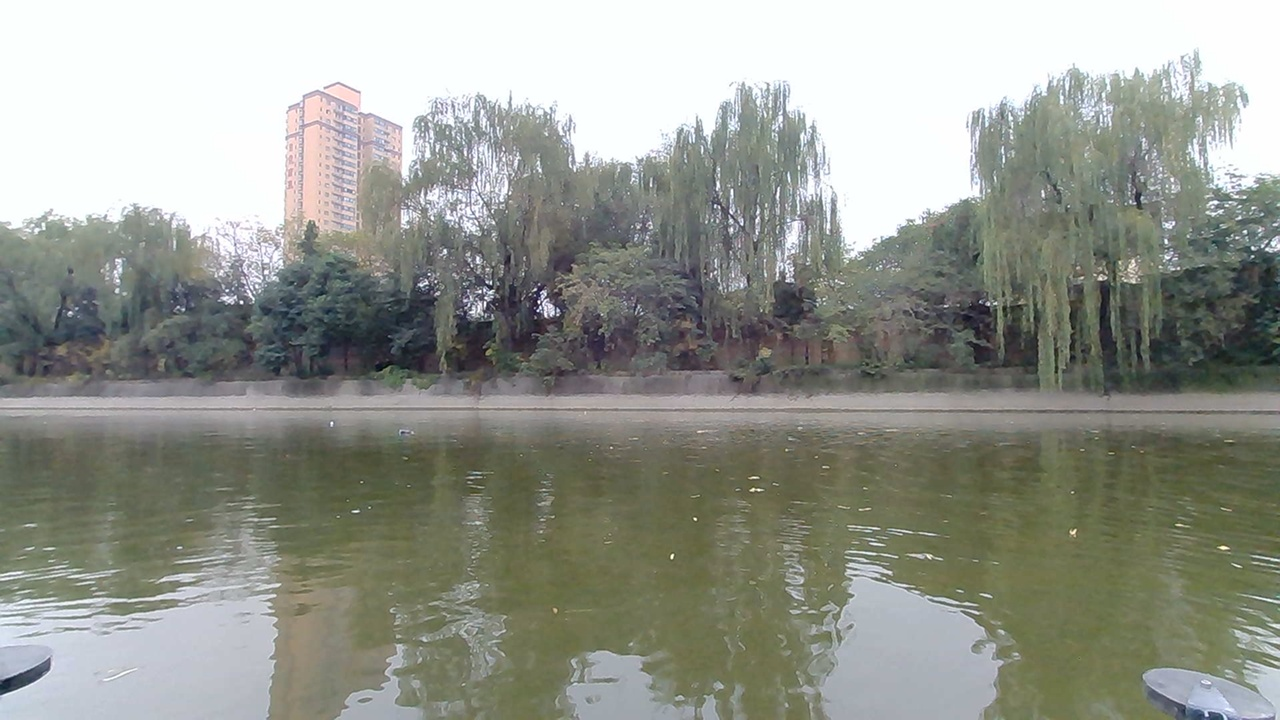bottle: (386, 419, 424, 439)
